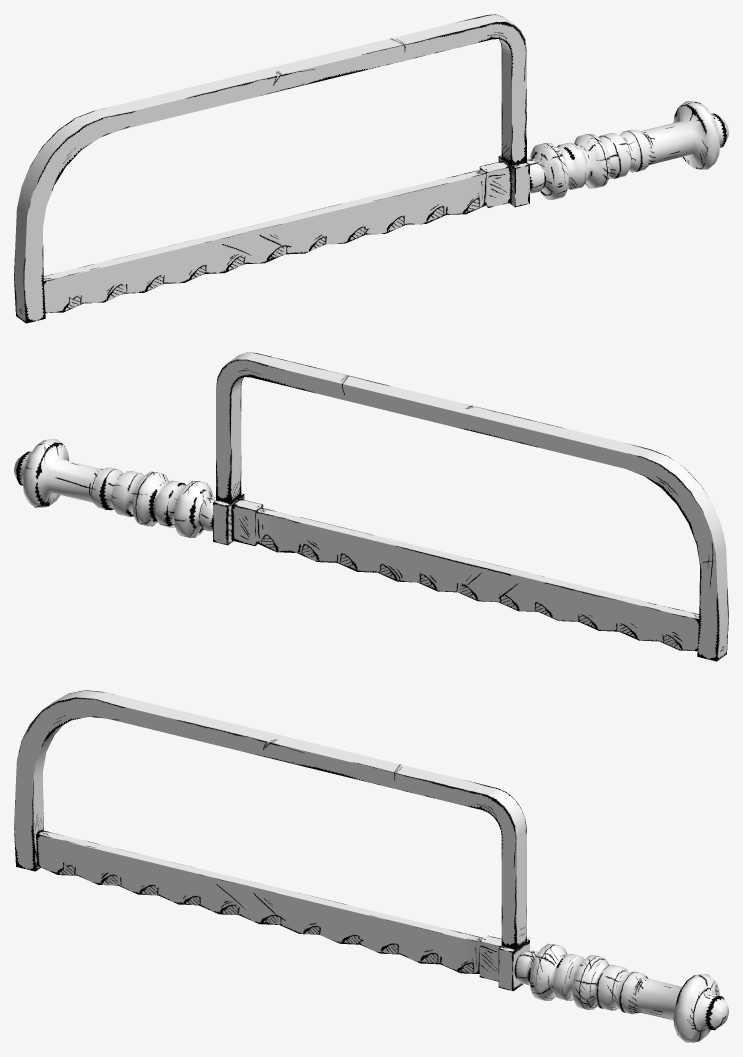
The model's file is SawTextureTest.fbx.
3 renders of one model, top to bottom at view 1: azimuth 30°, elevation 25°; view 2: azimuth 150°, elevation 25°; view 3: azimuth 330°, elevation 25°, orthographic.
Parts seen in each view (by area): view 1: Saw; view 2: Saw; view 3: Saw.
Boxes of the visible parts, x1,y1,x2,y2 form: Saw: (14,14,728,323); Saw: (14,352,728,661); Saw: (14,690,728,1042).
Bounding box in the file's own units: 337 × 90.33 × 30.25.
1 material, 1 textured.
